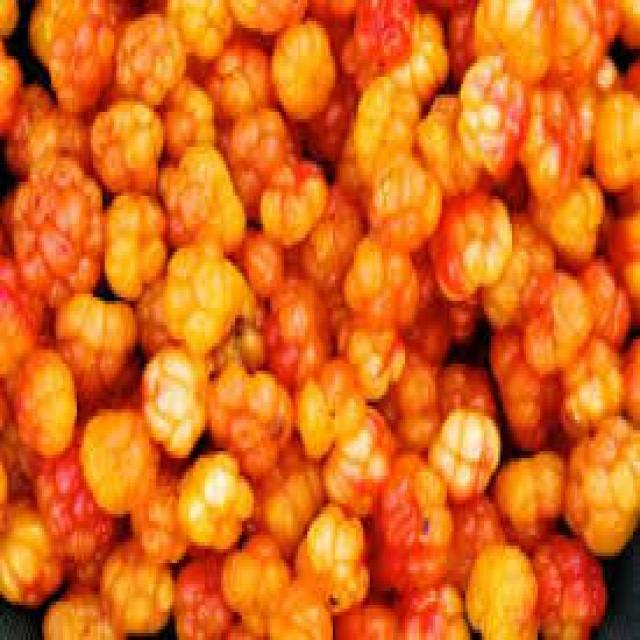biodegradable: (7, 158, 105, 305), (33, 458, 119, 588), (28, 0, 123, 105), (568, 416, 638, 556), (54, 287, 138, 402), (163, 144, 247, 256), (494, 325, 564, 451), (456, 49, 526, 171), (431, 189, 508, 297), (375, 444, 452, 549), (484, 217, 556, 329), (177, 455, 254, 556), (296, 504, 368, 612), (79, 416, 158, 514), (535, 525, 603, 637), (463, 532, 535, 637), (163, 245, 244, 336), (491, 451, 568, 546), (219, 528, 284, 637), (472, 0, 560, 80), (12, 350, 77, 458), (107, 535, 177, 633), (521, 276, 589, 374), (528, 185, 603, 273), (0, 497, 61, 605), (342, 231, 414, 322), (301, 175, 359, 287), (323, 420, 391, 514), (205, 28, 270, 126), (142, 350, 205, 451), (270, 18, 330, 123), (114, 14, 189, 98), (231, 105, 287, 210), (263, 283, 326, 374), (358, 525, 426, 609), (228, 371, 286, 469), (561, 63, 617, 164), (254, 458, 317, 546), (563, 336, 619, 434), (438, 497, 501, 584), (419, 98, 479, 189), (522, 84, 573, 189), (103, 200, 166, 284), (0, 297, 54, 395), (370, 161, 442, 234), (294, 364, 359, 444), (333, 308, 403, 381), (577, 252, 631, 346), (414, 266, 477, 346), (384, 360, 435, 458), (431, 413, 498, 486), (28, 112, 91, 189), (591, 94, 638, 196), (435, 357, 491, 441), (551, 0, 614, 73), (354, 0, 419, 70), (161, 73, 217, 154), (128, 479, 186, 556), (7, 81, 51, 179), (0, 406, 40, 511), (268, 154, 319, 234), (163, 0, 235, 56), (42, 588, 123, 637), (172, 549, 219, 633), (403, 7, 449, 91), (351, 88, 412, 151), (210, 364, 252, 455), (310, 77, 354, 157), (277, 577, 333, 637), (401, 581, 459, 637), (610, 203, 638, 315), (242, 224, 286, 294), (224, 0, 308, 35), (326, 602, 403, 637), (333, 119, 361, 213), (135, 277, 172, 347), (447, 0, 479, 77), (0, 39, 21, 151), (342, 28, 384, 73), (621, 329, 638, 437), (302, 0, 356, 31), (612, 0, 638, 49), (0, 0, 19, 35)
